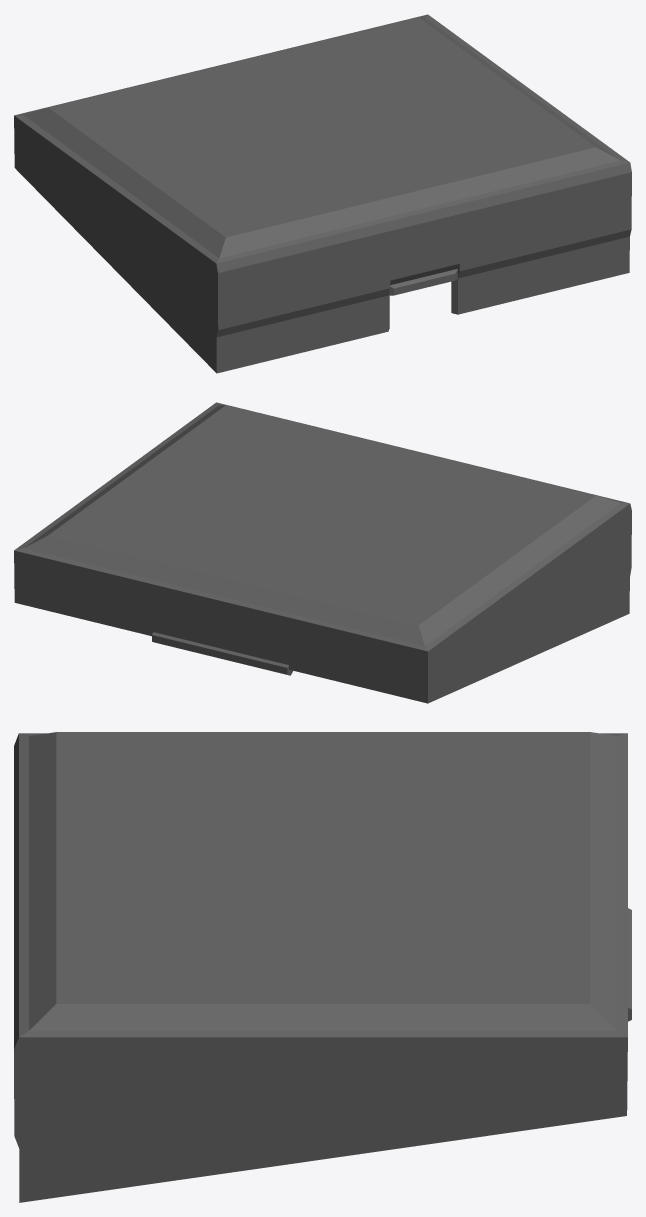
File: MetalAmmoBoxV1_Large_Lid.glb
3 renders of one model, top to bottom at view 1: azimuth 30°, elevation 25°; view 2: azimuth 150°, elevation 25°; view 3: azimuth 270°, elevation 25°, orthographic. The views are drawn at different scales.
Parts seen in each view (by area): view 1: MetalAmmoBoxV1_Large_Lid; view 2: MetalAmmoBoxV1_Large_Lid; view 3: MetalAmmoBoxV1_Large_Lid.
Part boxes in pixels (left/top/right/bottom): MetalAmmoBoxV1_Large_Lid: left=14, top=14, right=631, bottom=373; MetalAmmoBoxV1_Large_Lid: left=14, top=402, right=631, bottom=703; MetalAmmoBoxV1_Large_Lid: left=14, top=732, right=631, bottom=1202.
Size of the model in its own units: 0.3518 by 0.0989 by 0.3022.
1 material, 1 textured.
